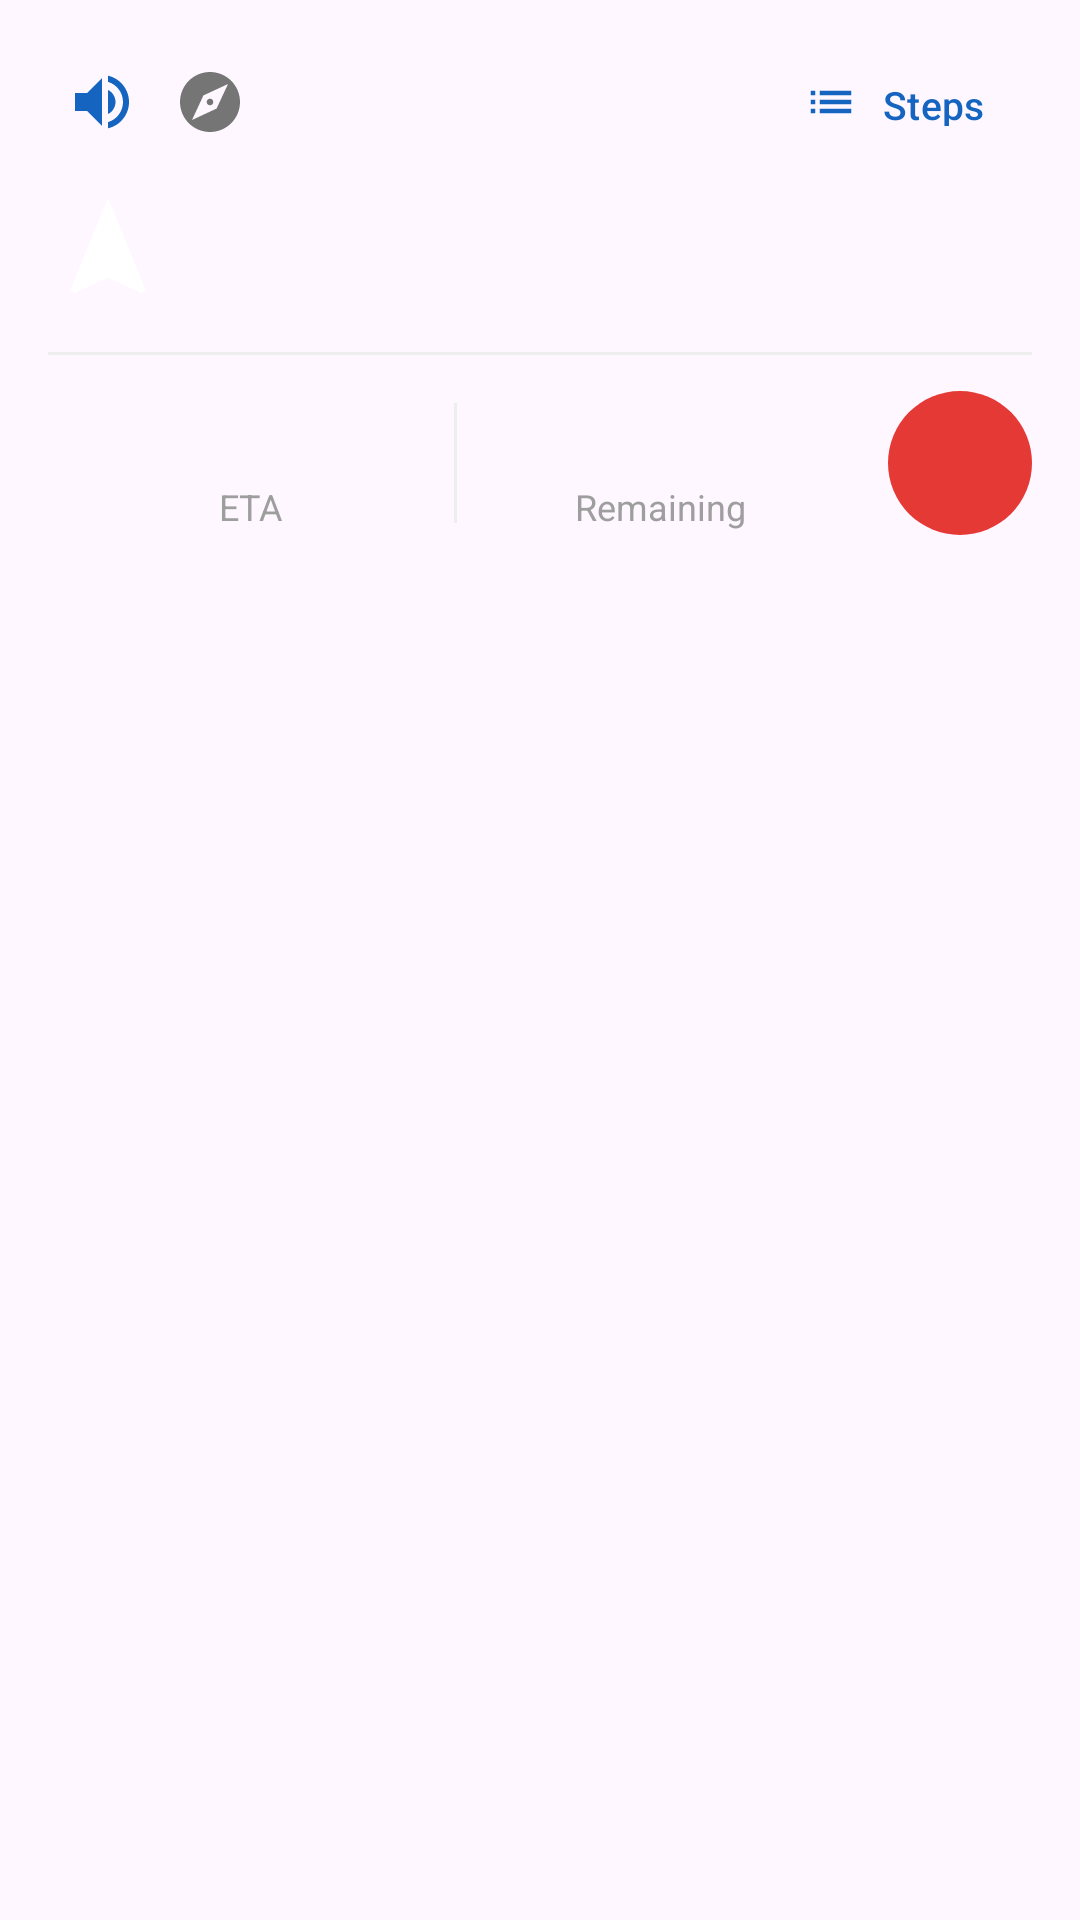

Named icons in this screenshot (1080×1920) and their centers, [x,y]:
Toggle map orientation: [210,102]
Toggle voice: [102,102]
